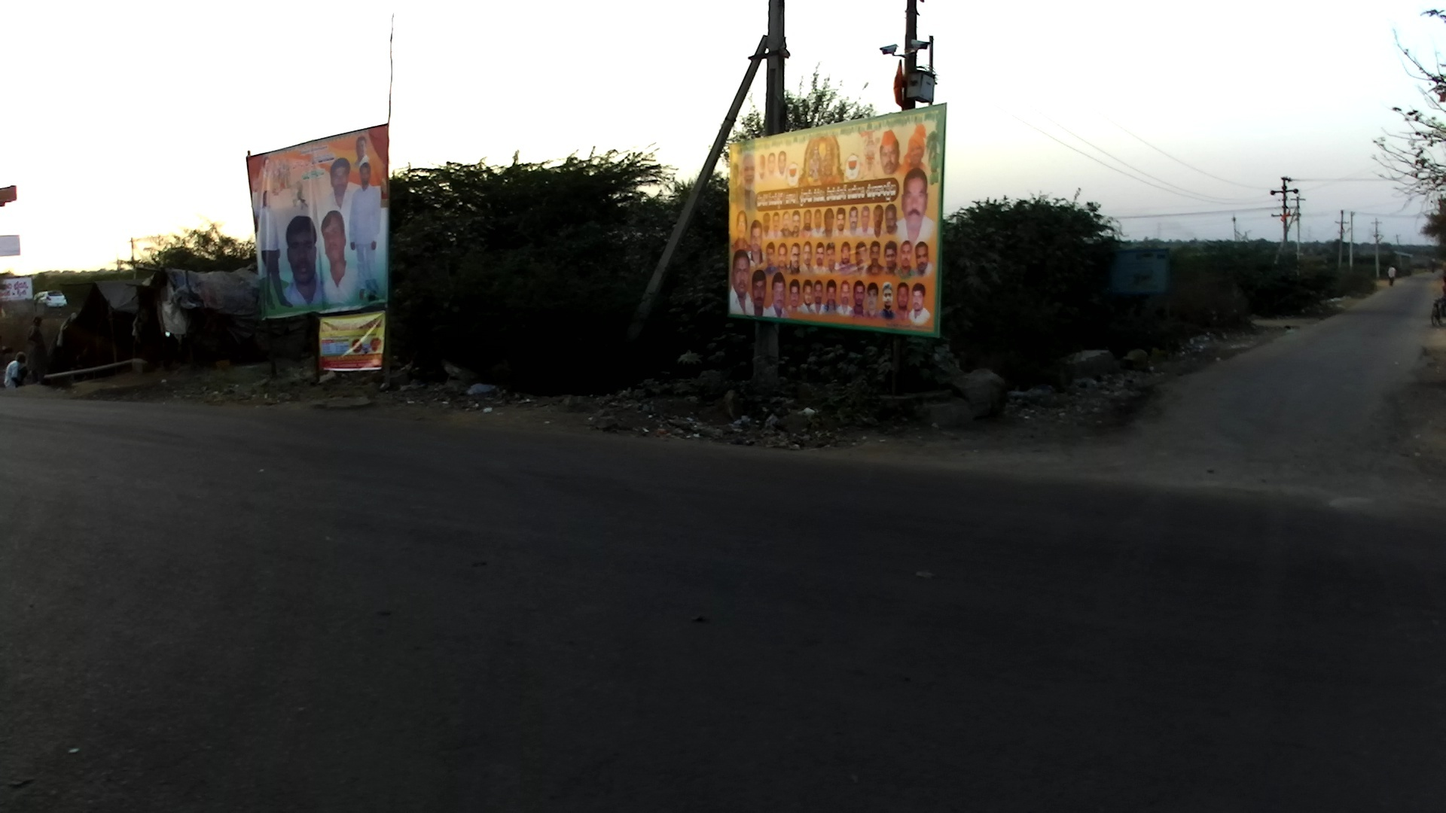bicycle: (1430, 298, 1446, 328)
car: (32, 290, 68, 312)
person: (27, 316, 47, 385), (5, 352, 29, 389), (1386, 263, 1396, 288)
